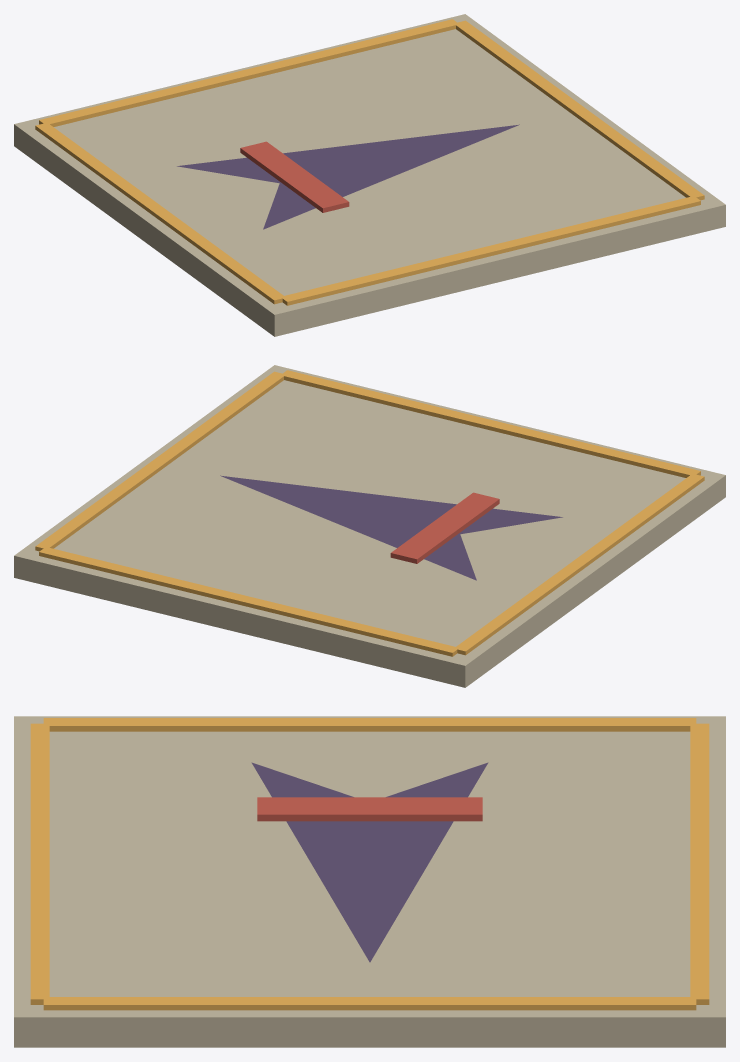
The model's file is space_die_event_face_2.glb.
3 views of the same model, one above another, from view 1: azimuth 30°, elevation 25°; view 2: azimuth 150°, elevation 25°; view 3: azimuth 270°, elevation 25° (orthographic). The views are drawn at different scales.
Parts seen in each view (by area): view 1: FixedDetails, BrassTrim; view 2: FixedDetails, BrassTrim; view 3: FixedDetails, BrassTrim.
Boxes of the visible parts, left/top/right/bottom form: FixedDetails: left=14, top=14, right=725, bottom=336; BrassTrim: left=35, top=19, right=704, bottom=305; FixedDetails: left=14, top=365, right=725, bottom=687; BrassTrim: left=35, top=370, right=704, bottom=656; FixedDetails: left=14, top=716, right=725, bottom=1047; BrassTrim: left=30, top=718, right=709, bottom=1010.
Bounding box in the file's own units: 0.6 × 0.038 × 0.6.
